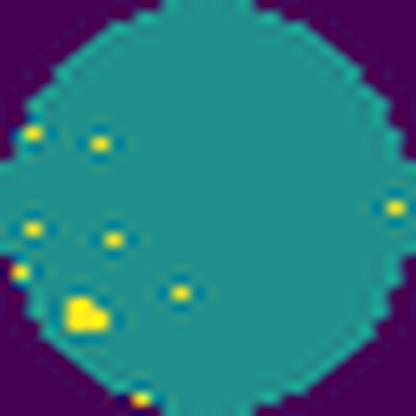Loc: (63, 288, 116, 343)
